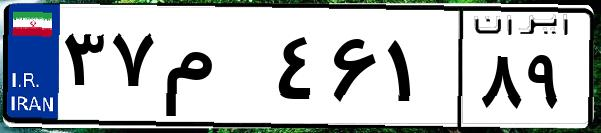1: (385, 28, 445, 110)
3: (57, 26, 110, 100)
4: (270, 28, 330, 110)
6: (330, 28, 385, 110)
7: (110, 28, 158, 98)
8: (475, 38, 525, 113)
9: (525, 38, 570, 115)
م: (158, 20, 270, 120)
